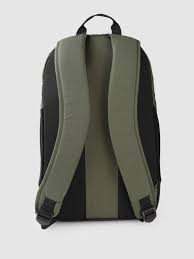backpack: (34, 13, 161, 229)
